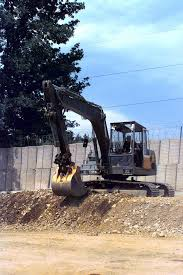excavator: (40, 78, 176, 202)
